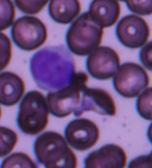L: (28, 46, 76, 92)
